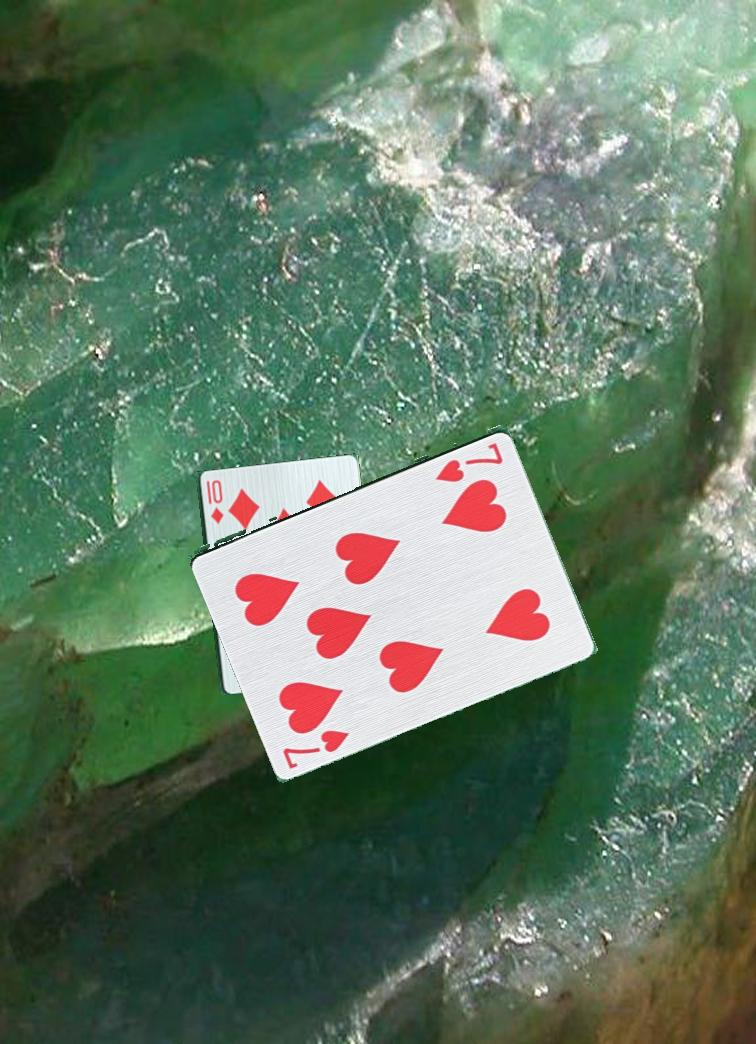7h: (272, 715, 353, 772), (432, 438, 507, 485)
td: (203, 477, 226, 532)
